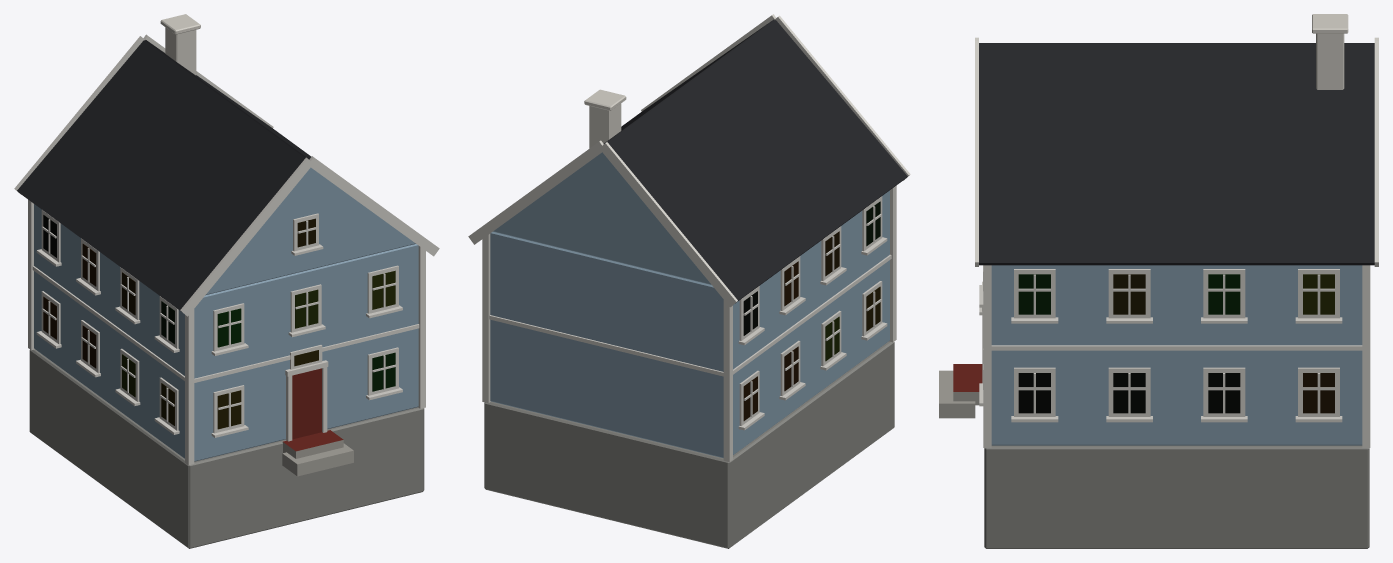
Rendered from house_d_blue_tar.glb.
3 renders of one model, left to right at view 1: azimuth 30°, elevation 25°; view 2: azimuth 150°, elevation 25°; view 3: azimuth 270°, elevation 25°, orthographic. The views are drawn at different scales.
Parts seen in each view (by area): view 1: house_d_blue_tar_walls, house_d_blue_tar_roof, house_d_blue_tar_plinth, house_d_blue_tar_trim, house_d_blue_tar_glass, house_d_blue_tar_door, house_d_blue_tar_chimney; view 2: house_d_blue_tar_walls, house_d_blue_tar_roof, house_d_blue_tar_plinth, house_d_blue_tar_trim, house_d_blue_tar_glass, house_d_blue_tar_chimney; view 3: house_d_blue_tar_roof, house_d_blue_tar_walls, house_d_blue_tar_plinth, house_d_blue_tar_trim, house_d_blue_tar_glass, house_d_blue_tar_chimney, house_d_blue_tar_door.
Boxes of the visible parts, x1,y1,x2,y2 form: house_d_blue_tar_walls: (34, 167, 418, 461); house_d_blue_tar_roof: (17, 40, 311, 311); house_d_blue_tar_plinth: (29, 349, 424, 548); house_d_blue_tar_trim: (14, 34, 439, 465); house_d_blue_tar_glass: (43, 215, 395, 429); house_d_blue_tar_door: (282, 368, 353, 476); house_d_blue_tar_chimney: (160, 14, 200, 75); house_d_blue_tar_walls: (490, 152, 889, 458); house_d_blue_tar_roof: (604, 19, 907, 303); house_d_blue_tar_plinth: (484, 341, 894, 548); house_d_blue_tar_trim: (468, 14, 910, 461); house_d_blue_tar_glass: (743, 201, 880, 420); house_d_blue_tar_chimney: (584, 89, 626, 148); house_d_blue_tar_roof: (979, 43, 1374, 265); house_d_blue_tar_walls: (991, 265, 1362, 445); house_d_blue_tar_plinth: (984, 445, 1369, 548); house_d_blue_tar_trim: (975, 37, 1378, 447); house_d_blue_tar_glass: (1018, 274, 1334, 413); house_d_blue_tar_chimney: (1312, 14, 1348, 89); house_d_blue_tar_door: (939, 364, 982, 418).
Bounding box in the file's own units: 8.9 × 12.85 × 10.91.
